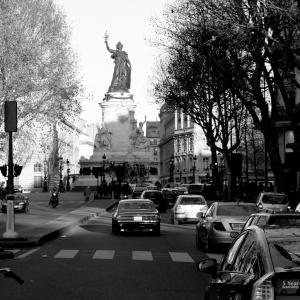Vehicle-registration-plate: (233, 224, 246, 232), (135, 217, 144, 222)
